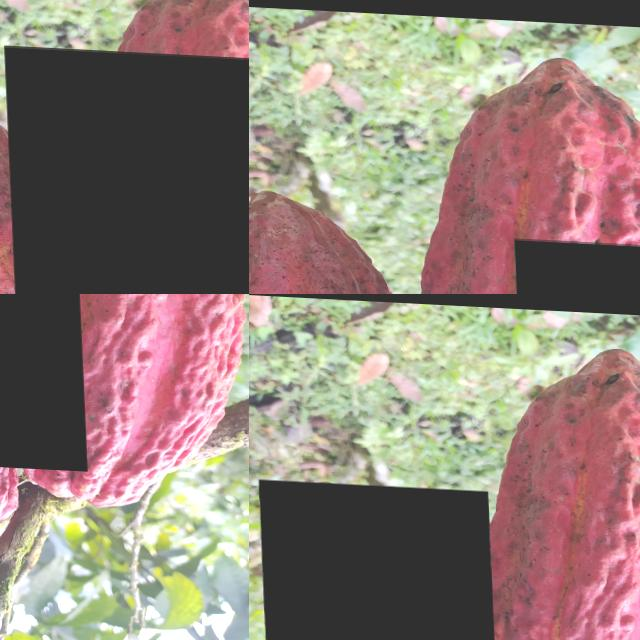Monilia: (3, 43, 249, 294)
Sana: (463, 344, 640, 640), (256, 478, 497, 640)
